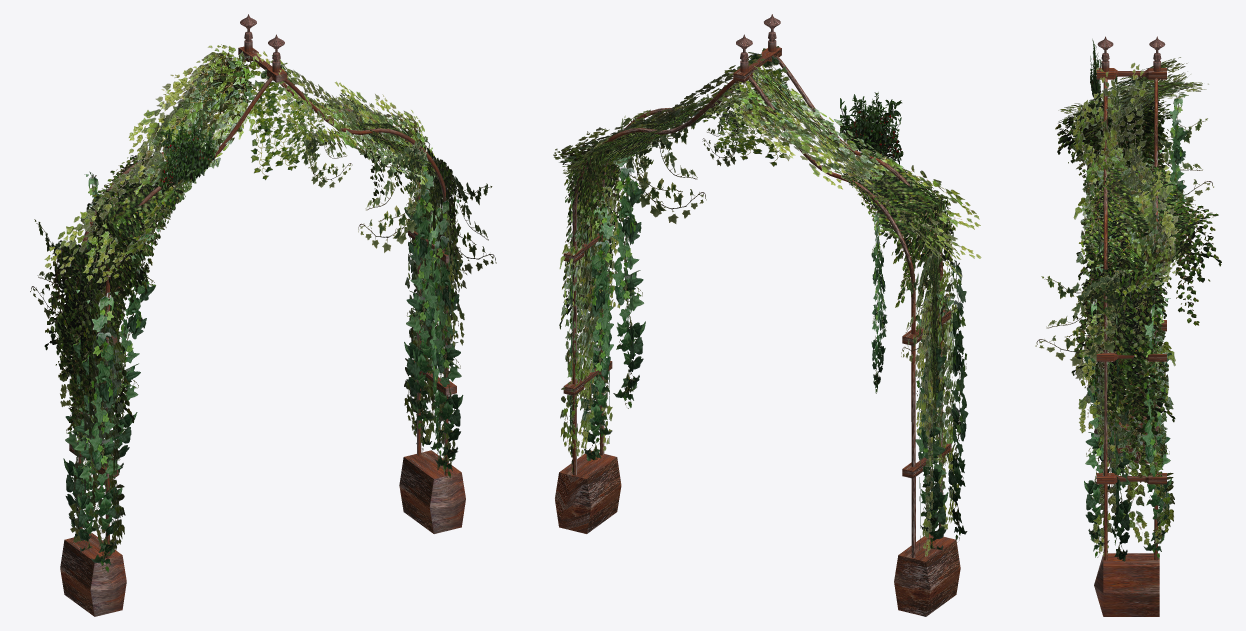
File: Arch_Ivy.fbx
The picture shows the model from 3 angles, left to right: view 1: azimuth 30°, elevation 25°; view 2: azimuth 150°, elevation 25°; view 3: azimuth 270°, elevation 25°; orthographic projection. The views are drawn at different scales.
Visible parts, largest first — view 1: Arch_Nature; view 2: Arch_Nature; view 3: Arch_Nature.
Part boxes in pixels (bbox=[...]): Arch_Nature: bbox=[30, 14, 496, 616]; Arch_Nature: bbox=[553, 14, 981, 616]; Arch_Nature: bbox=[1035, 36, 1221, 616].
Bounding box in the file's own units: 1615 × 1953 × 700.
